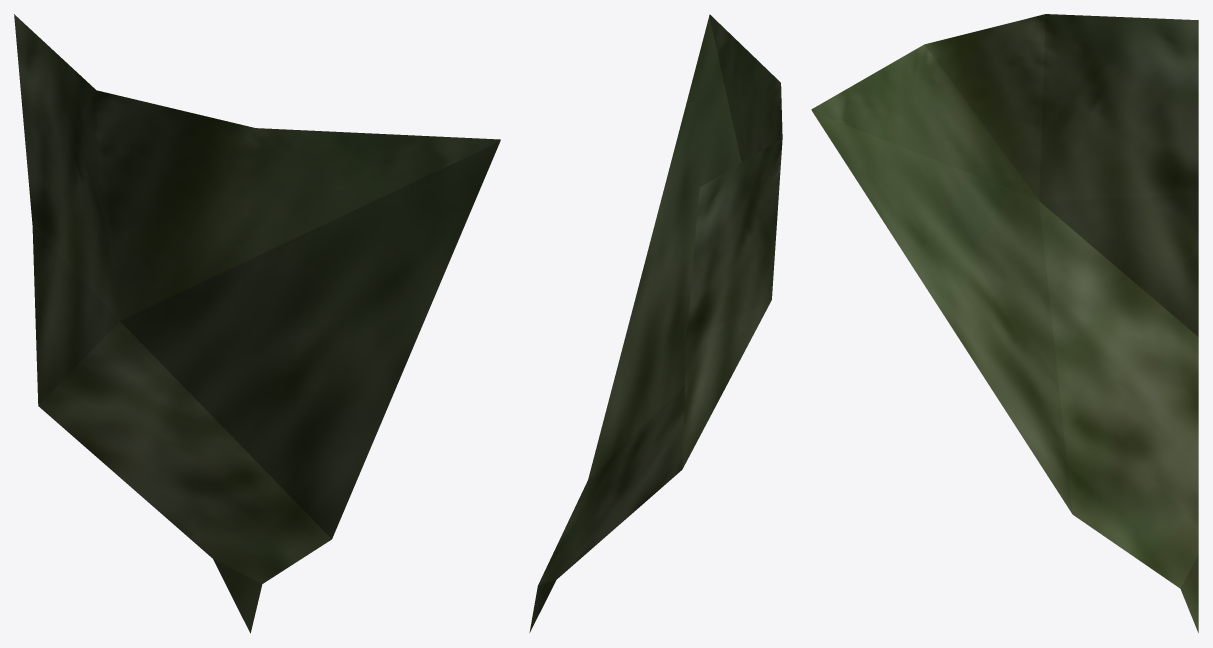
3 views of the same model, side by side, from view 1: azimuth 30°, elevation 25°; view 2: azimuth 150°, elevation 25°; view 3: azimuth 270°, elevation 25° (orthographic). The views are drawn at different scales.
Size of the model in its own units: 0.399 by 1.02 by 0.684.
Materials: 1 (1 with a texture image).
